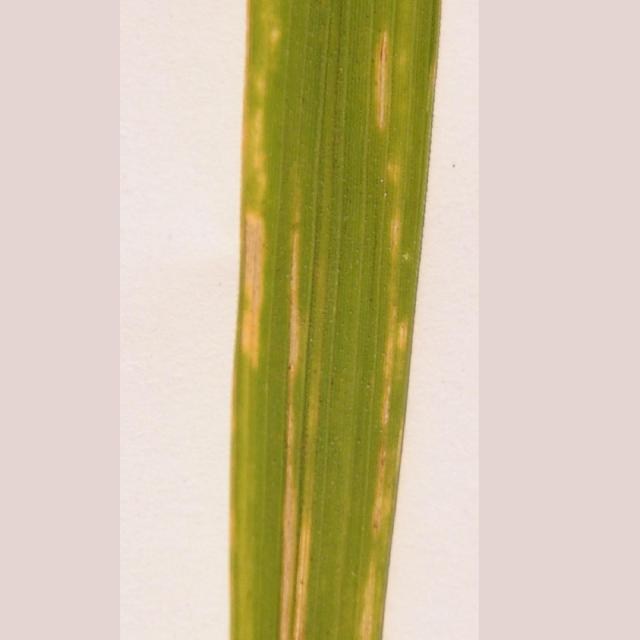leaf blight: (227, 4, 415, 640)
